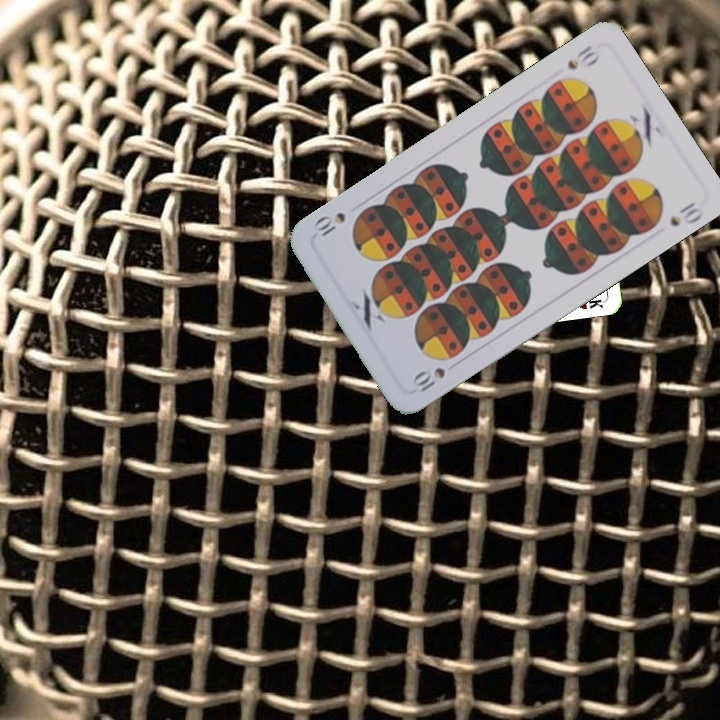S10: (407, 363, 448, 395), (563, 41, 603, 73)
